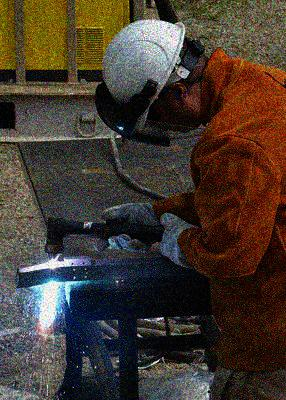helmet: (99, 17, 209, 134)
